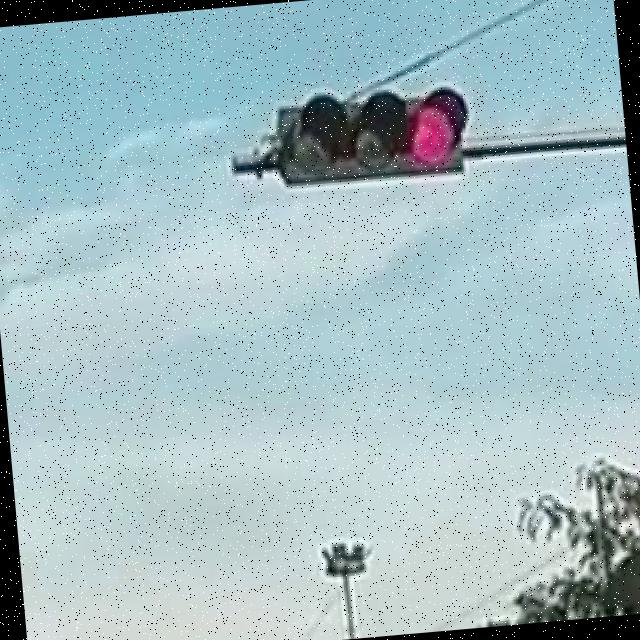Czerwone swiatlo: (269, 79, 476, 192)
